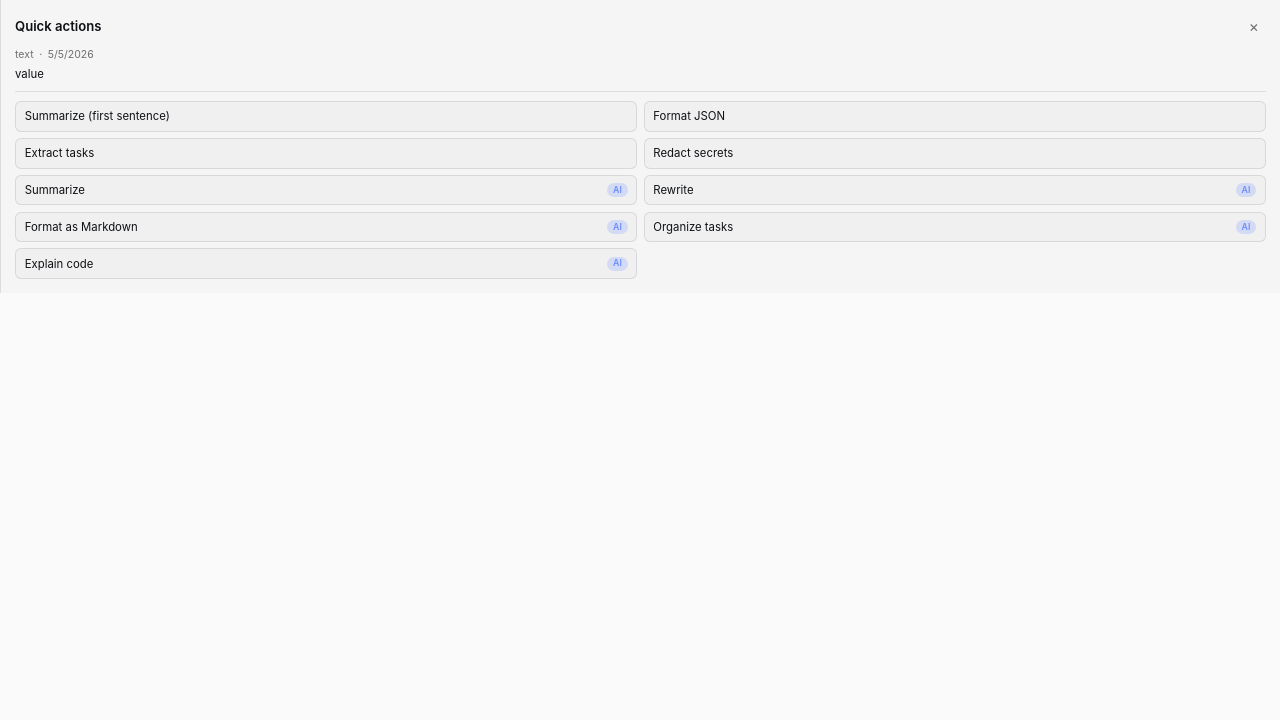
Test case: ActionInspector › settles a run whose done event arrives before its start response
The image size is (1280, 720).
Click the button with test id "ai-Summarize" at (55,190), box [15,175,637,205]
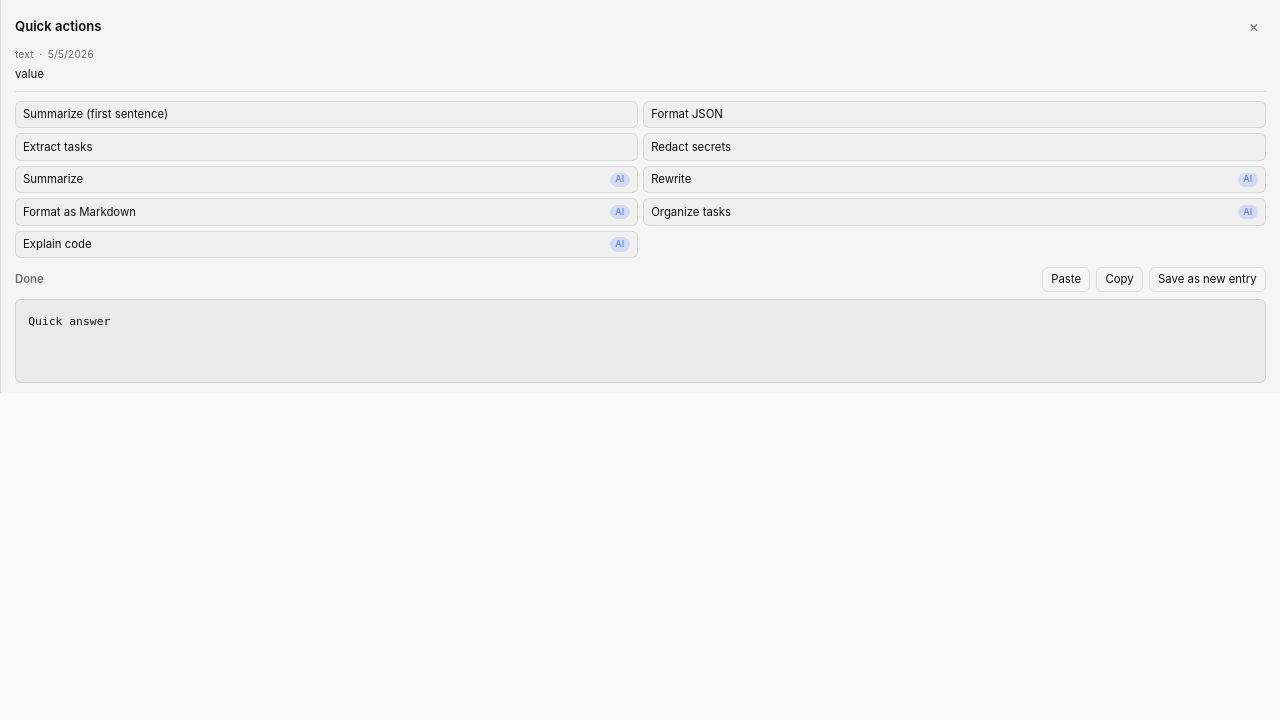
Expected: the button with test id "ai-Summarize" is enabled, [15,166,638,193]
Expected: the text "Quick answer" is shown, [15,299,1266,383]
